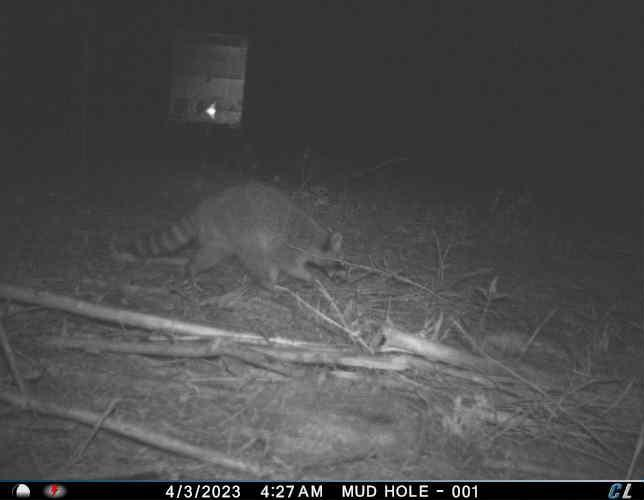Raccoon: (127, 182, 350, 296)
